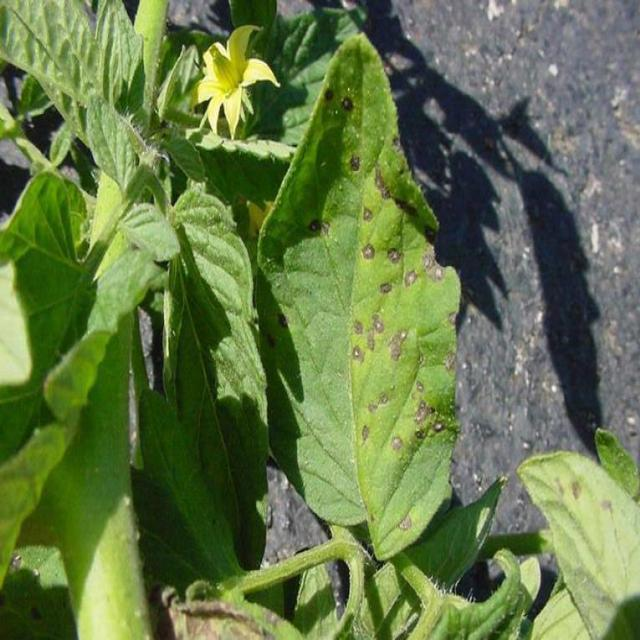Septoria: (344, 238, 461, 538), (306, 82, 402, 257)
